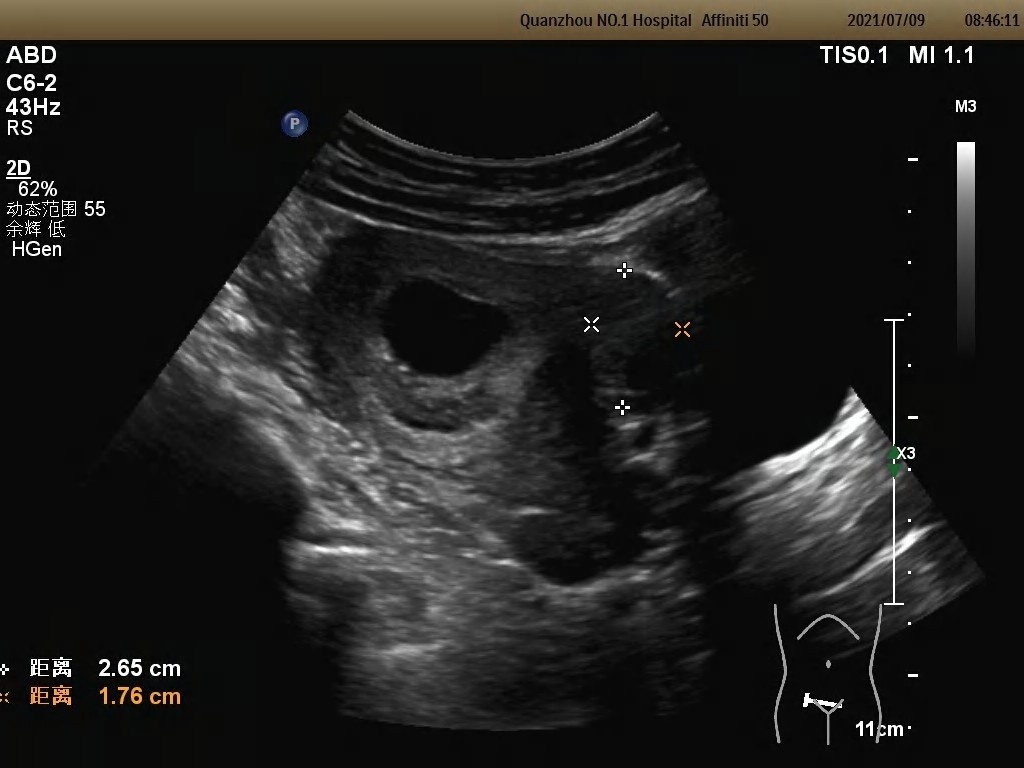肌瘤: (588, 270, 682, 408)
